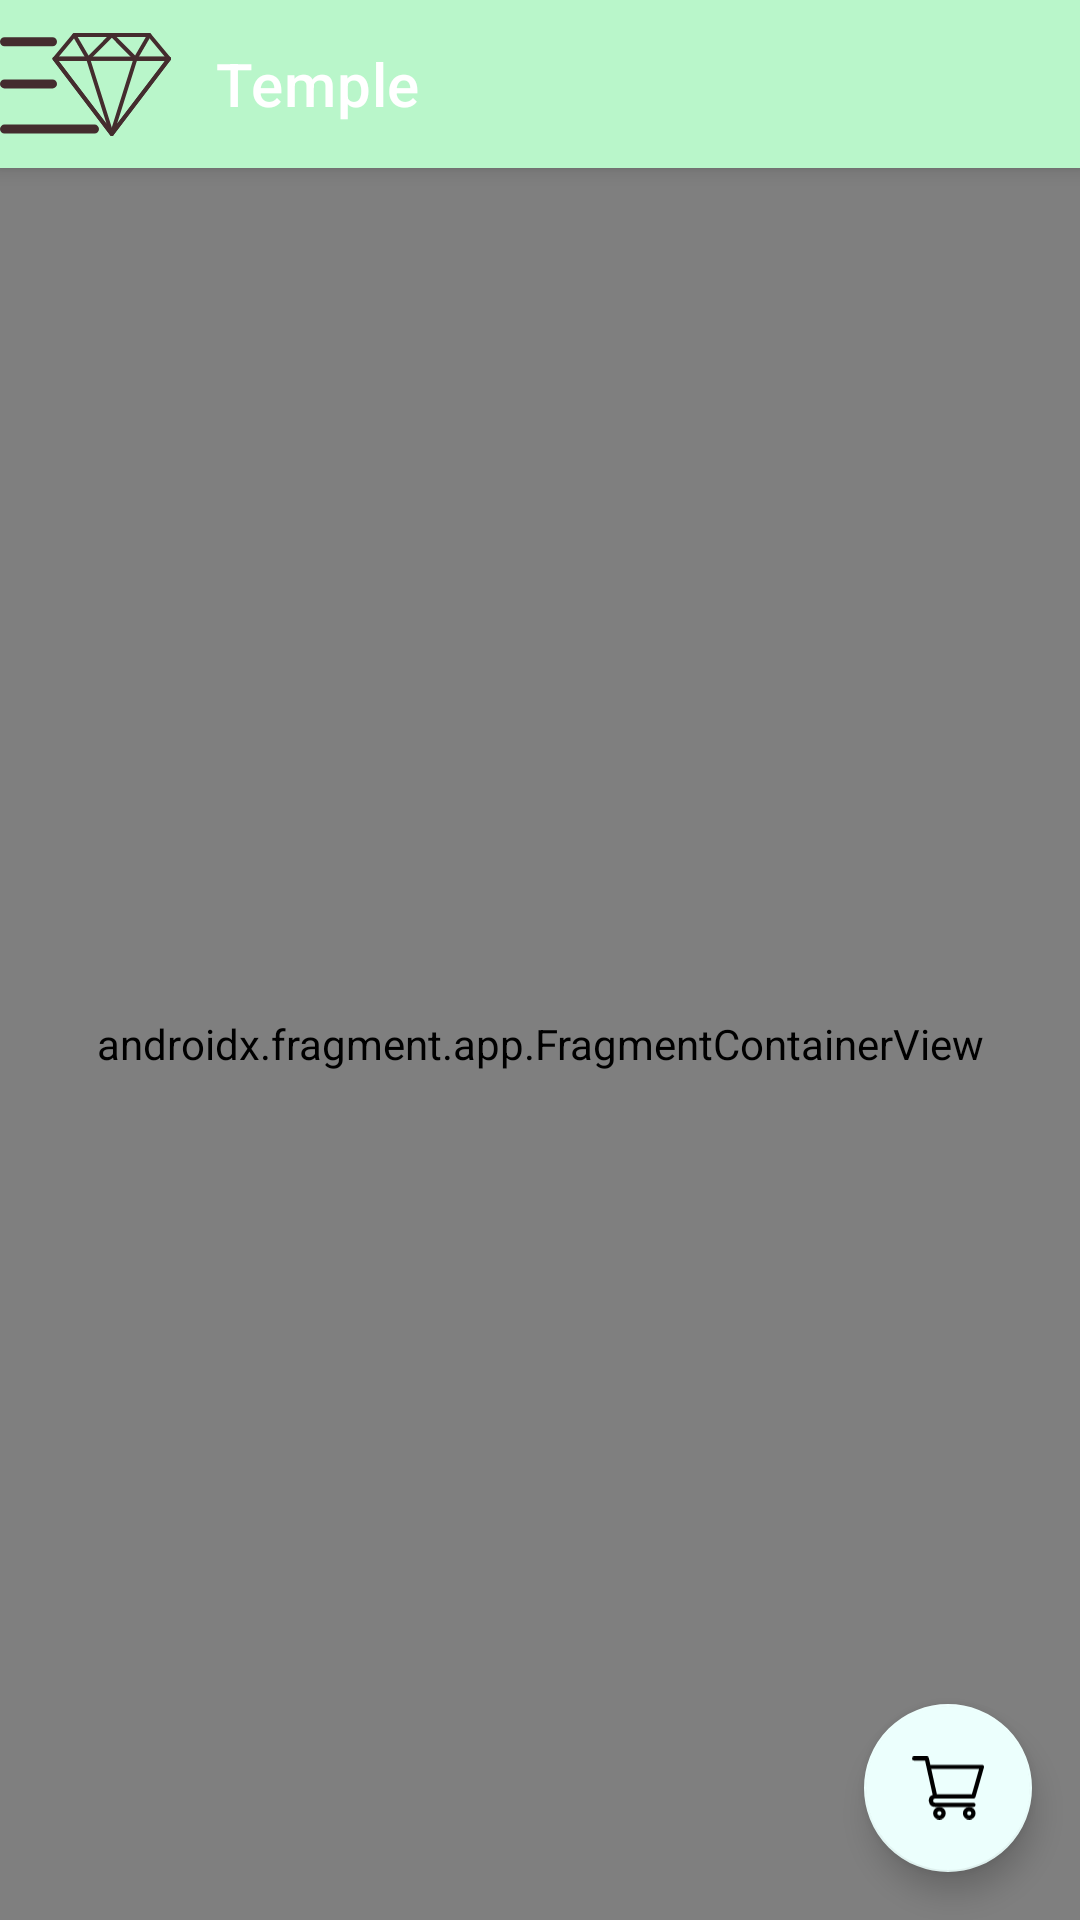

Locate icon controls on the screen. Image size 1080 x 1920, boxes as (x1=x1, y1=y1, x2=x2, y2=y2).
shopping cart: (x1=864, y1=1704, x2=1032, y2=1872)
